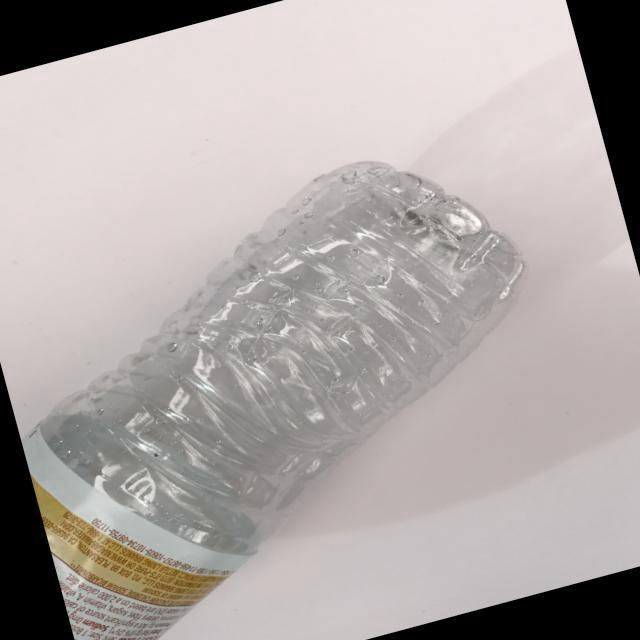plastic: (0, 85, 639, 640)
